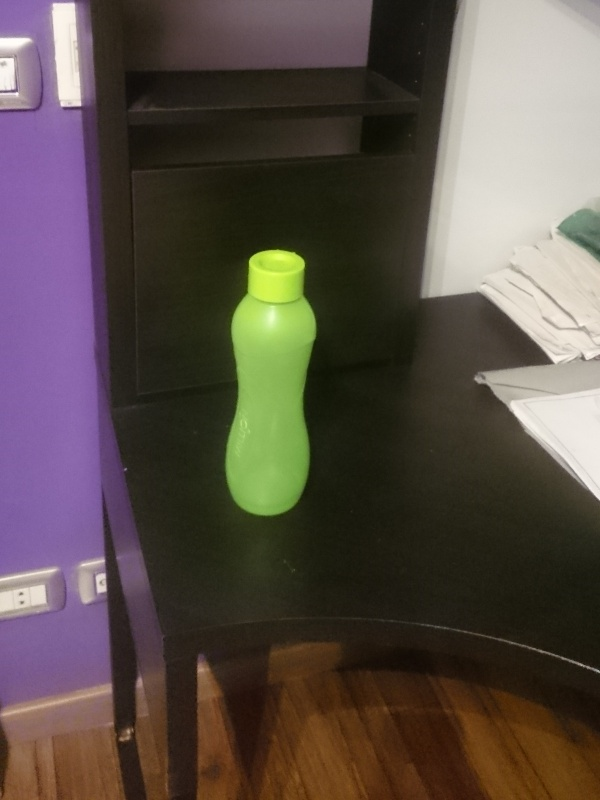my bottle: (218, 247, 319, 515)
